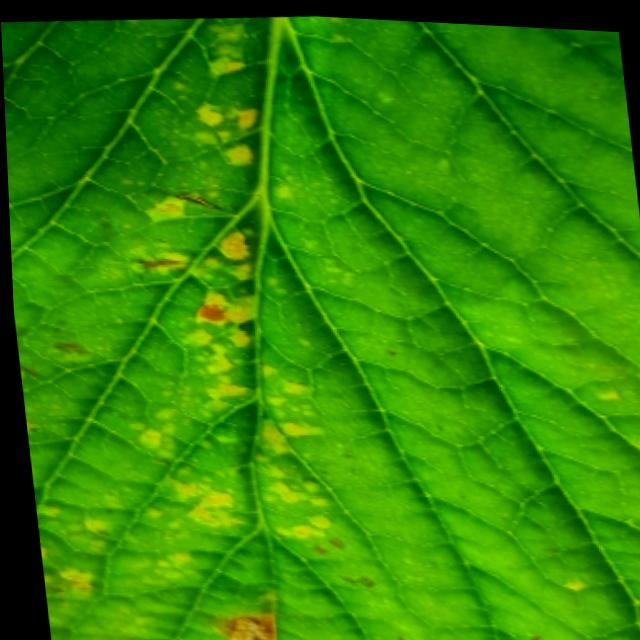Angular Leafspot: (17, 13, 640, 640)
